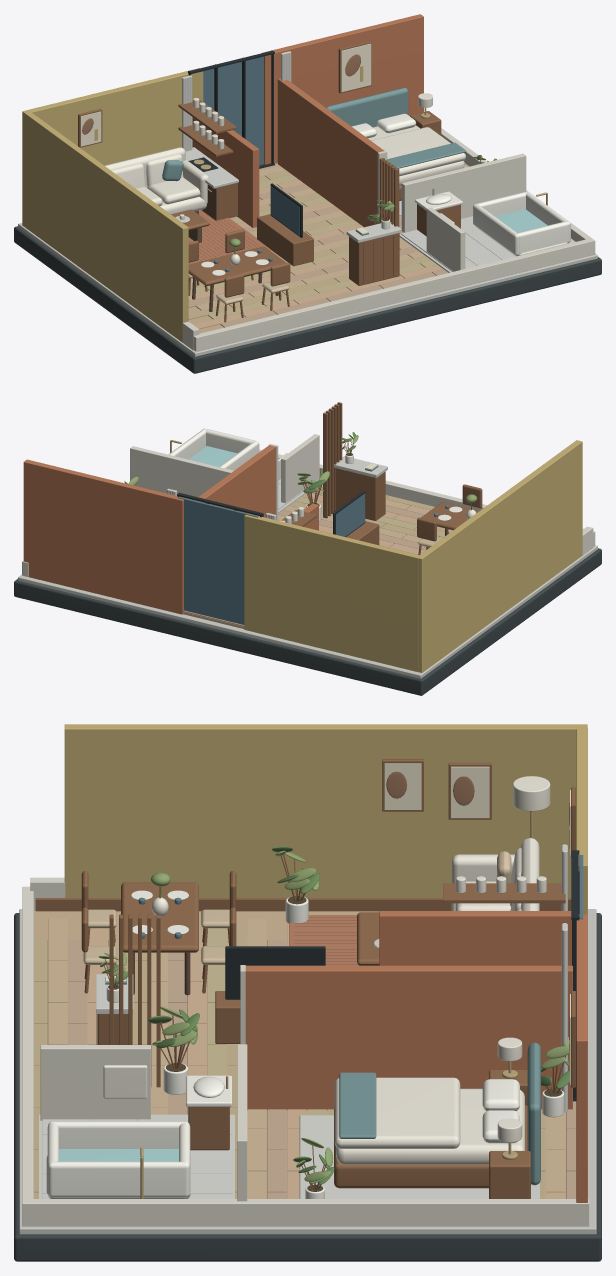
File: apartment.glb
The picture shows the model from 3 angles, top to bottom: view 1: azimuth 30°, elevation 25°; view 2: azimuth 150°, elevation 25°; view 3: azimuth 270°, elevation 25°; orthographic projection. The views are drawn at different scales.
Visible parts, largest first — view 1: 左侧墙, 悬浮建筑基座, 后墙_卧室, 中央卧室隔墙, 后墙_客厅, 前侧剖切墙, 浴室隔断横墙, 落地窗玻璃, 地坪边缘, 厨房背景, 玄关柜, 羽绒被 (+29 smaller); view 2: 后墙_客厅, 左侧墙, 后墙_卧室, 悬浮建筑基座, 落地窗玻璃, 地坪边缘, 浴室隔断横墙, 中央卧室隔墙, 浴室门边, 玄关柜, 前侧剖切墙, 电视玻璃 (+9 smaller); view 3: 左侧墙, 中央卧室隔墙, 悬浮建筑基座, 右侧剖切墙, 厨房背景, 地坪边缘, 浴室门边, 羽绒被, 浴缸侧边.001, 床垫, 踢脚线_左, 床底座 (+43 smaller).
Boxes of the visible parts, bbox=[...] form: 左侧墙: bbox=[22, 110, 188, 342]; 悬浮建筑基座: bbox=[14, 226, 601, 373]; 后墙_卧室: bbox=[262, 14, 423, 164]; 中央卧室隔墙: bbox=[277, 78, 384, 227]; 后墙_客厅: bbox=[27, 68, 203, 165]; 前侧剖切墙: bbox=[193, 239, 595, 351]; 浴室隔断横墙: bbox=[401, 153, 526, 232]; 落地窗玻璃: bbox=[203, 56, 263, 165]; 地坪边缘: bbox=[18, 223, 597, 356]; 厨房背景: bbox=[192, 117, 259, 227]; 玄关柜: bbox=[349, 233, 399, 285]; 羽绒被: bbox=[371, 127, 465, 176]; 后墙_客厅: bbox=[244, 513, 420, 672]; 左侧墙: bbox=[417, 440, 582, 672]; 后墙_卧室: bbox=[23, 459, 185, 614]; 悬浮建筑基座: bbox=[14, 548, 601, 695]; 落地窗玻璃: bbox=[178, 497, 258, 624]; 地坪边缘: bbox=[18, 545, 597, 678]; 浴室隔断横墙: bbox=[130, 446, 233, 500]; 中央卧室隔墙: bbox=[194, 445, 275, 517]; 浴室门边: bbox=[281, 434, 319, 503]; 玄关柜: bbox=[336, 468, 385, 520]; 前侧剖切墙: bbox=[259, 449, 595, 546]; 电视玻璃: bbox=[336, 493, 365, 536]; 左侧墙: bbox=[64, 724, 587, 897]; 中央卧室隔墙: bbox=[245, 965, 572, 1110]; 悬浮建筑基座: bbox=[14, 913, 601, 1261]; 右侧剖切墙: bbox=[27, 1199, 589, 1226]; 厨房背景: bbox=[379, 911, 571, 965]; 地坪边缘: bbox=[19, 909, 596, 1234]; 浴室门边: bbox=[40, 1045, 150, 1120]; 羽绒被: bbox=[334, 1077, 460, 1148]; 浴缸侧边.001: bbox=[48, 1161, 189, 1197]; 床垫: bbox=[336, 1088, 524, 1164]; 踢脚线_左: bbox=[35, 898, 571, 911]; 床底座: bbox=[334, 1105, 527, 1188].
Size of the model in its own units: 10.65 by 3.38 by 8.15.
